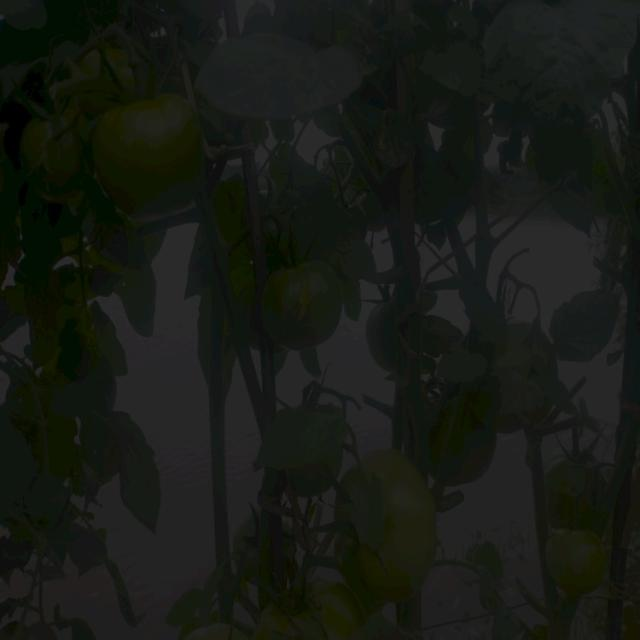tomato: (91, 95, 214, 215), (368, 454, 444, 596), (539, 450, 616, 527), (261, 581, 356, 640), (269, 256, 340, 326), (537, 524, 612, 587), (453, 429, 495, 490), (505, 314, 553, 362), (233, 510, 268, 574), (367, 293, 393, 369), (25, 114, 51, 163)
